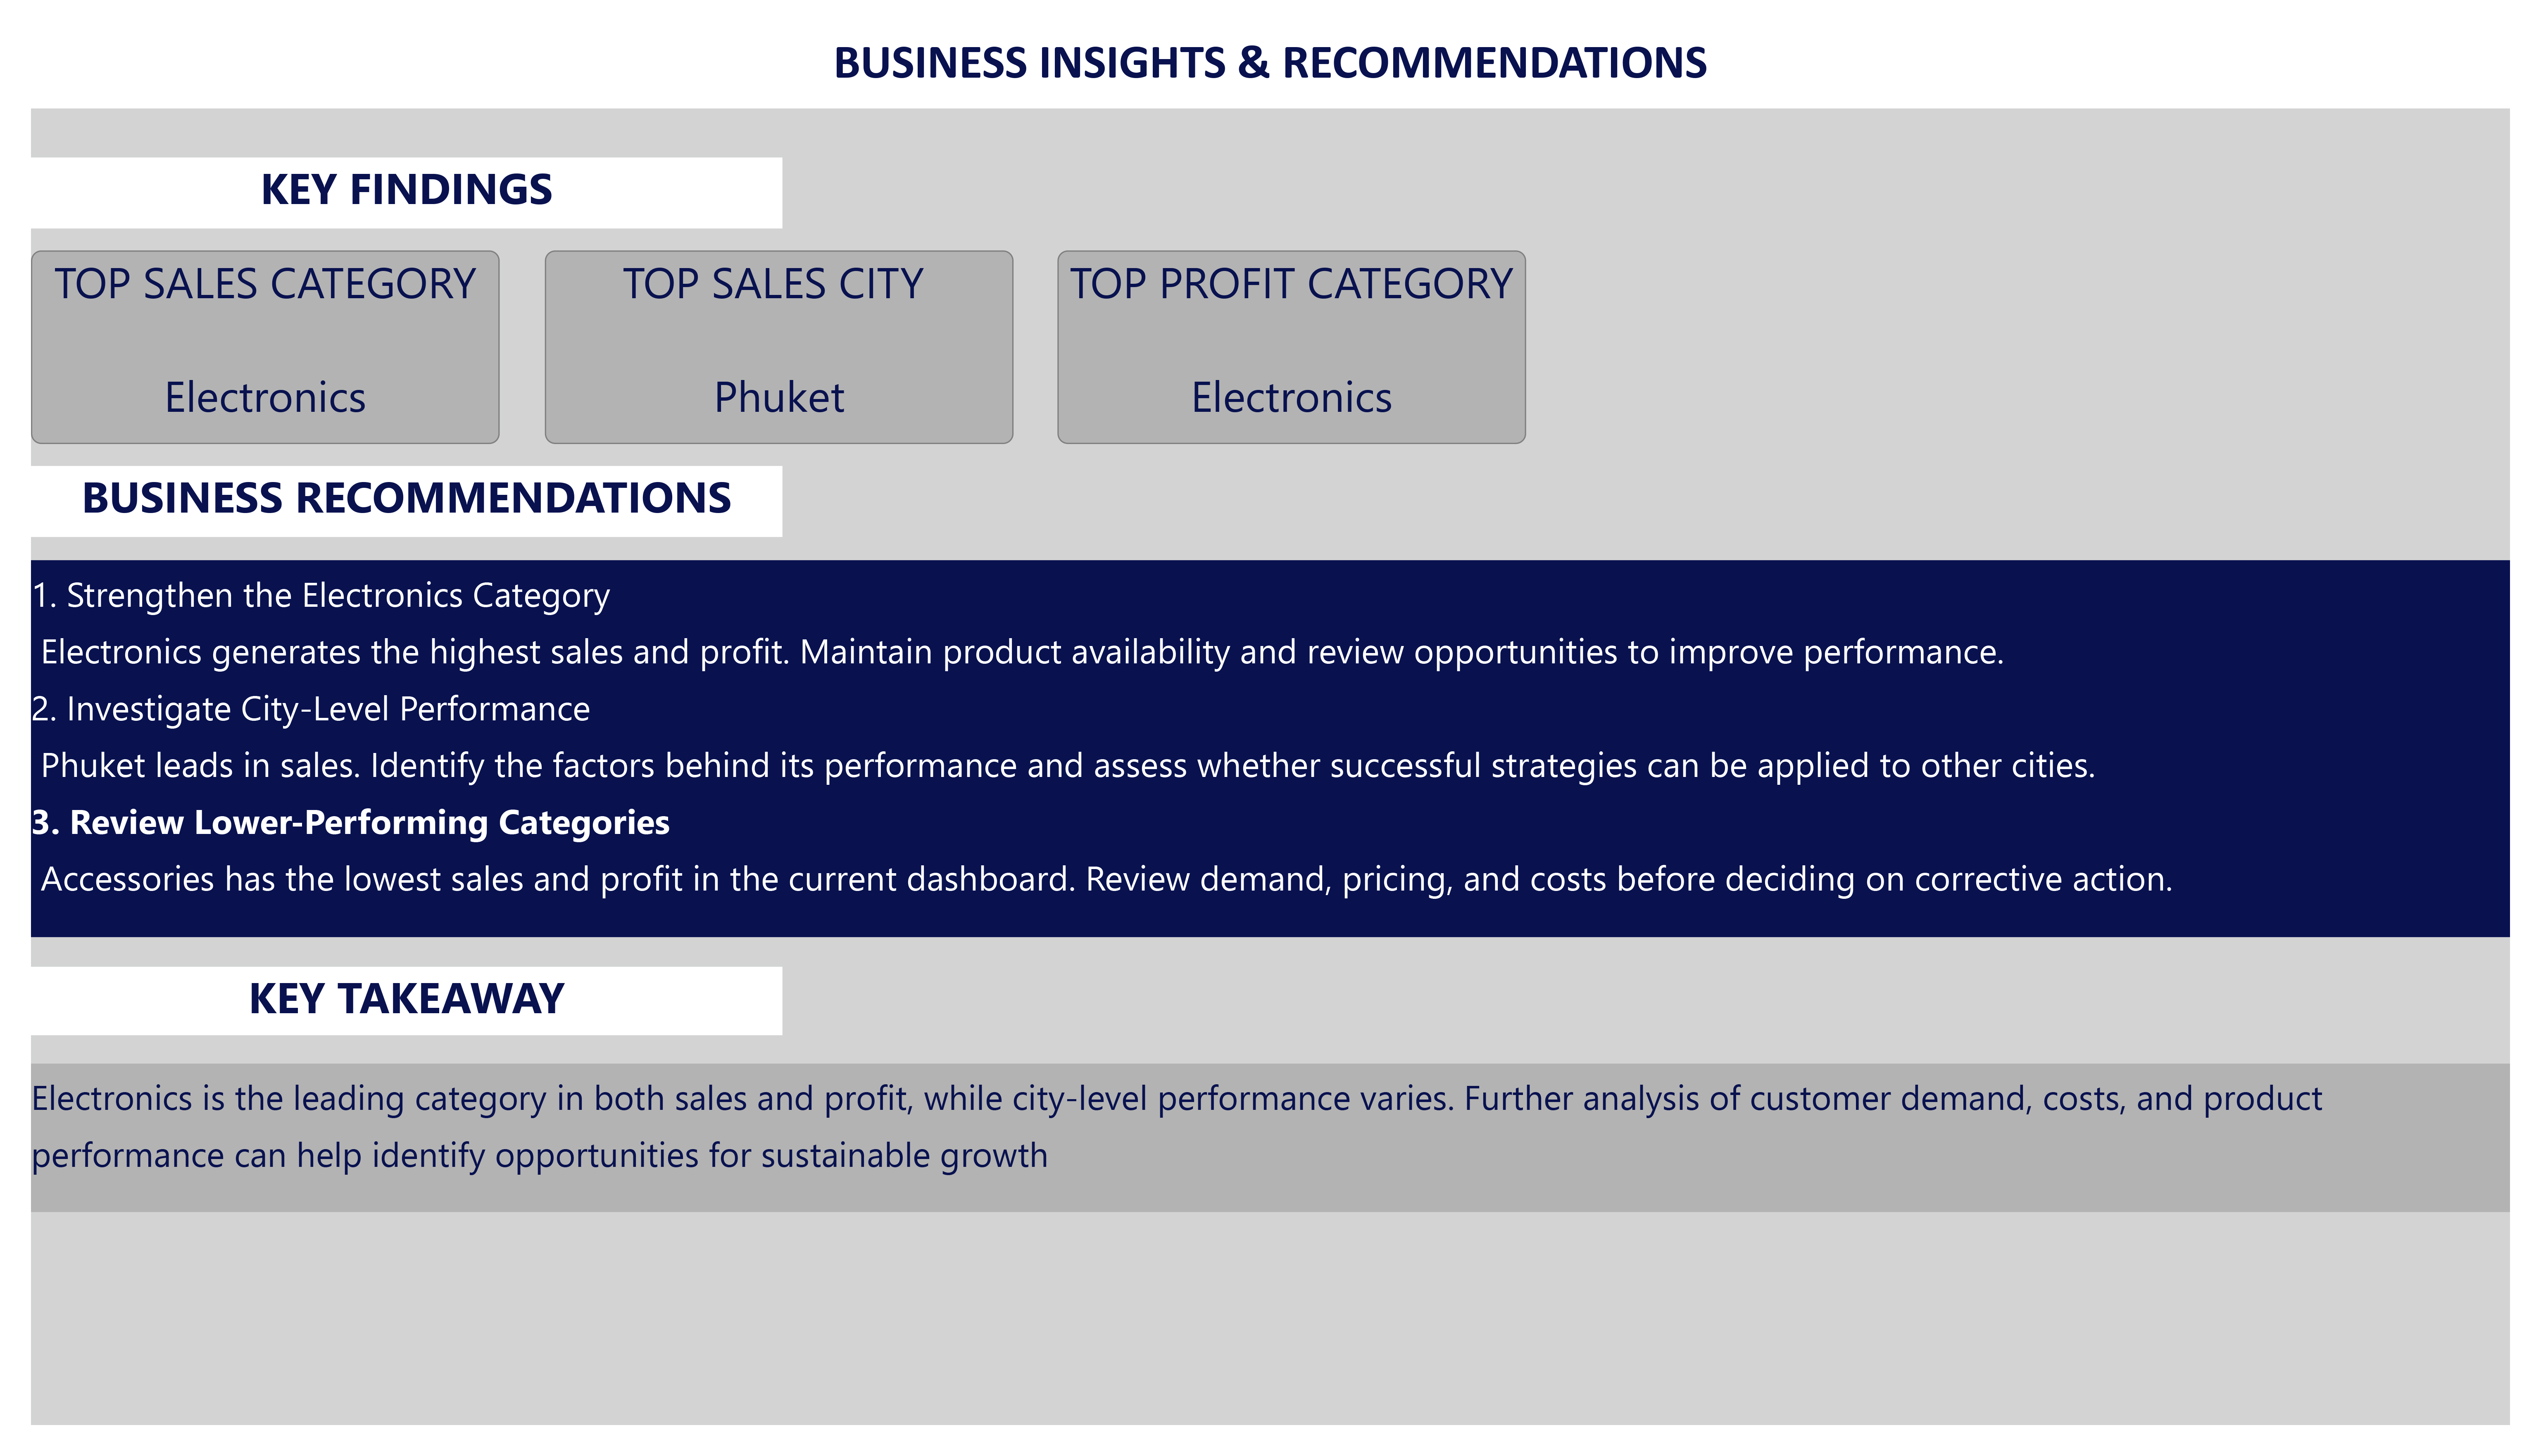

What the dashboard file says about the page in this screenshot:
{"tool":"powerbi","page":{"name":"Business Insights","canvas":[1920,1080],"ordinal":1},"visuals":[{"type":"textbox","box":[0,0,1920,60],"z":0},{"type":"textbox","box":[0,170,363.3,150],"z":1000},{"type":"textbox","box":[397.5,170,363.3,150],"z":2000},{"type":"textbox","box":[795,170,363.3,150],"z":3000},{"type":"textbox","box":[0,336.7,581.7,55],"z":4000},{"type":"textbox","box":[0,98.3,581.7,55],"z":5000},{"type":"textbox","box":[0,410,1920,291.7],"z":6000},{"type":"textbox","box":[0,725,581.7,53.3],"z":7000},{"type":"textbox","box":[0,800,1920,115],"z":8000}]}

Visuals, with their boxes on the page's 1920x1080 design canvas (x1, y1, x2, y2). These are canvas units, not pixel positions in the 2541x1456 screenshot, which may show the page scaled, cropped or inside an application window:
textbox: (0,0,1920,60)
textbox: (0,170,363,320)
textbox: (398,170,761,320)
textbox: (795,170,1158,320)
textbox: (0,337,582,392)
textbox: (0,98,582,153)
textbox: (0,410,1920,702)
textbox: (0,725,582,778)
textbox: (0,800,1920,915)
